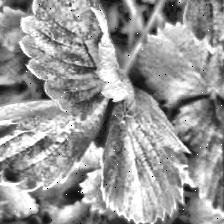Powdery Mildew Leaf: (18, 0, 138, 123)
